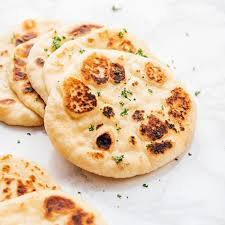Naan: (0, 12, 196, 179)
